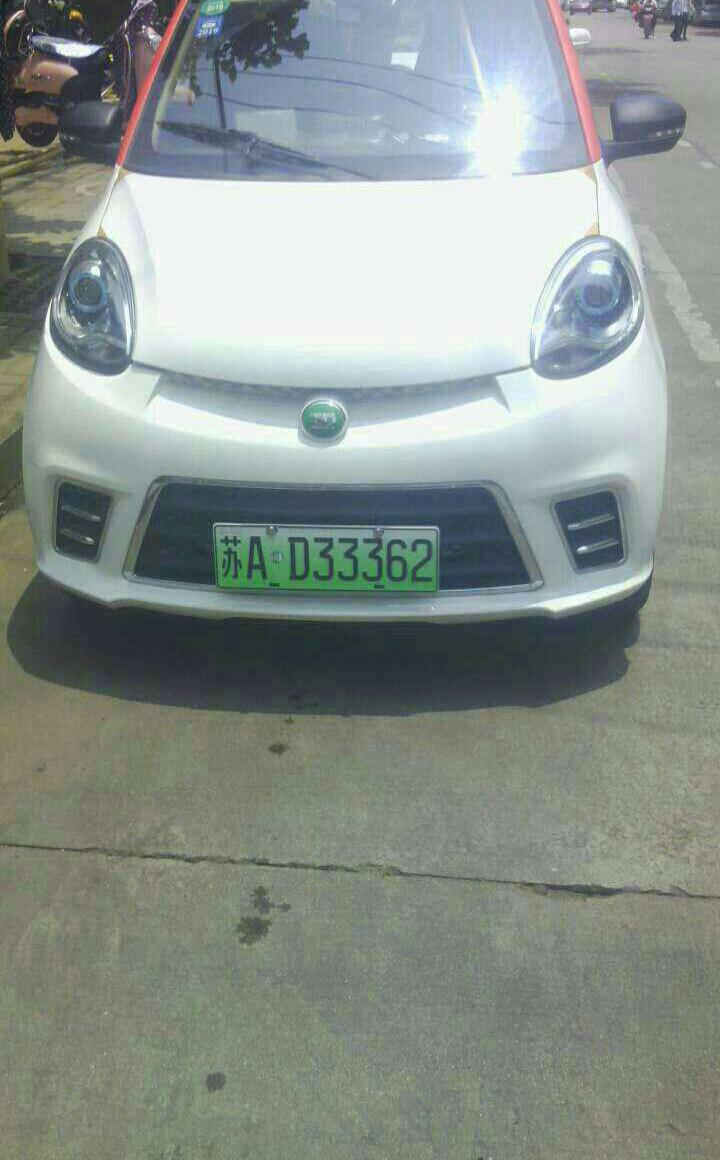car_id: (213, 517, 446, 588)
